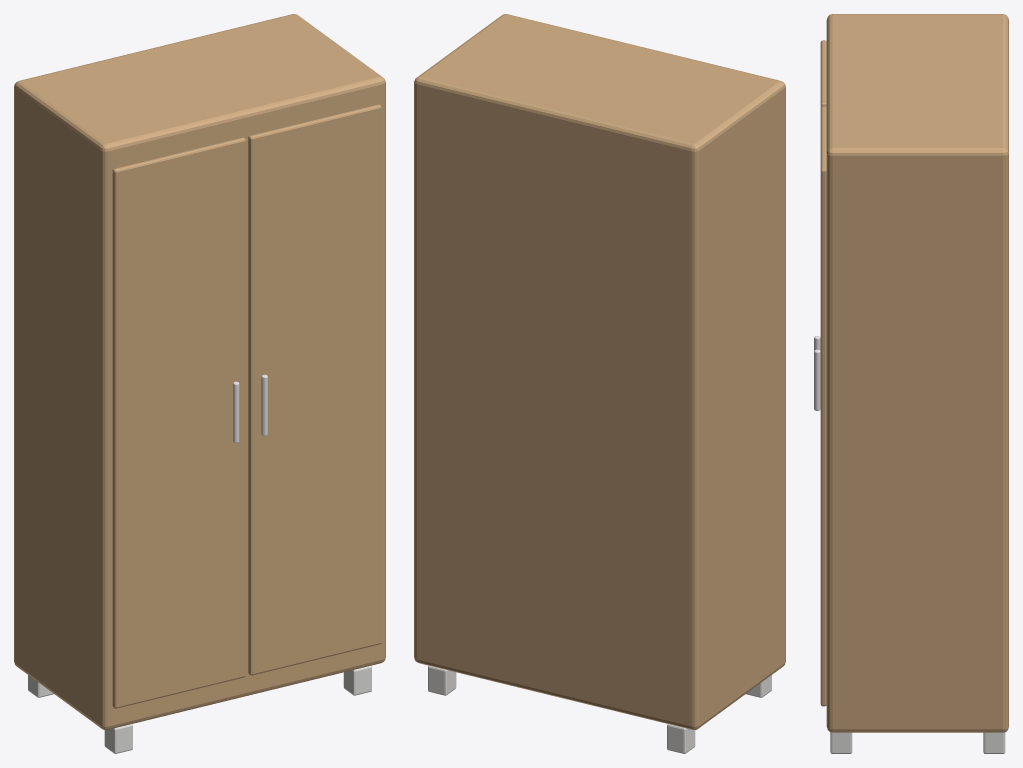
File: office_storage___organization_asset_sheet_42.glb
The picture shows the model from 3 angles, left to right: view 1: azimuth 30°, elevation 25°; view 2: azimuth 150°, elevation 25°; view 3: azimuth 270°, elevation 25°; orthographic projection.
Parts seen in each view (by area): view 1: Cube; view 2: Cube; view 3: Cube.
Boxes of the visible parts, bbox=[...] form: Cube: bbox=[14, 14, 385, 753]; Cube: bbox=[414, 14, 785, 753]; Cube: bbox=[814, 14, 1008, 753].
Bounding box in the file's own units: 0.9 × 1.85 × 0.535.
